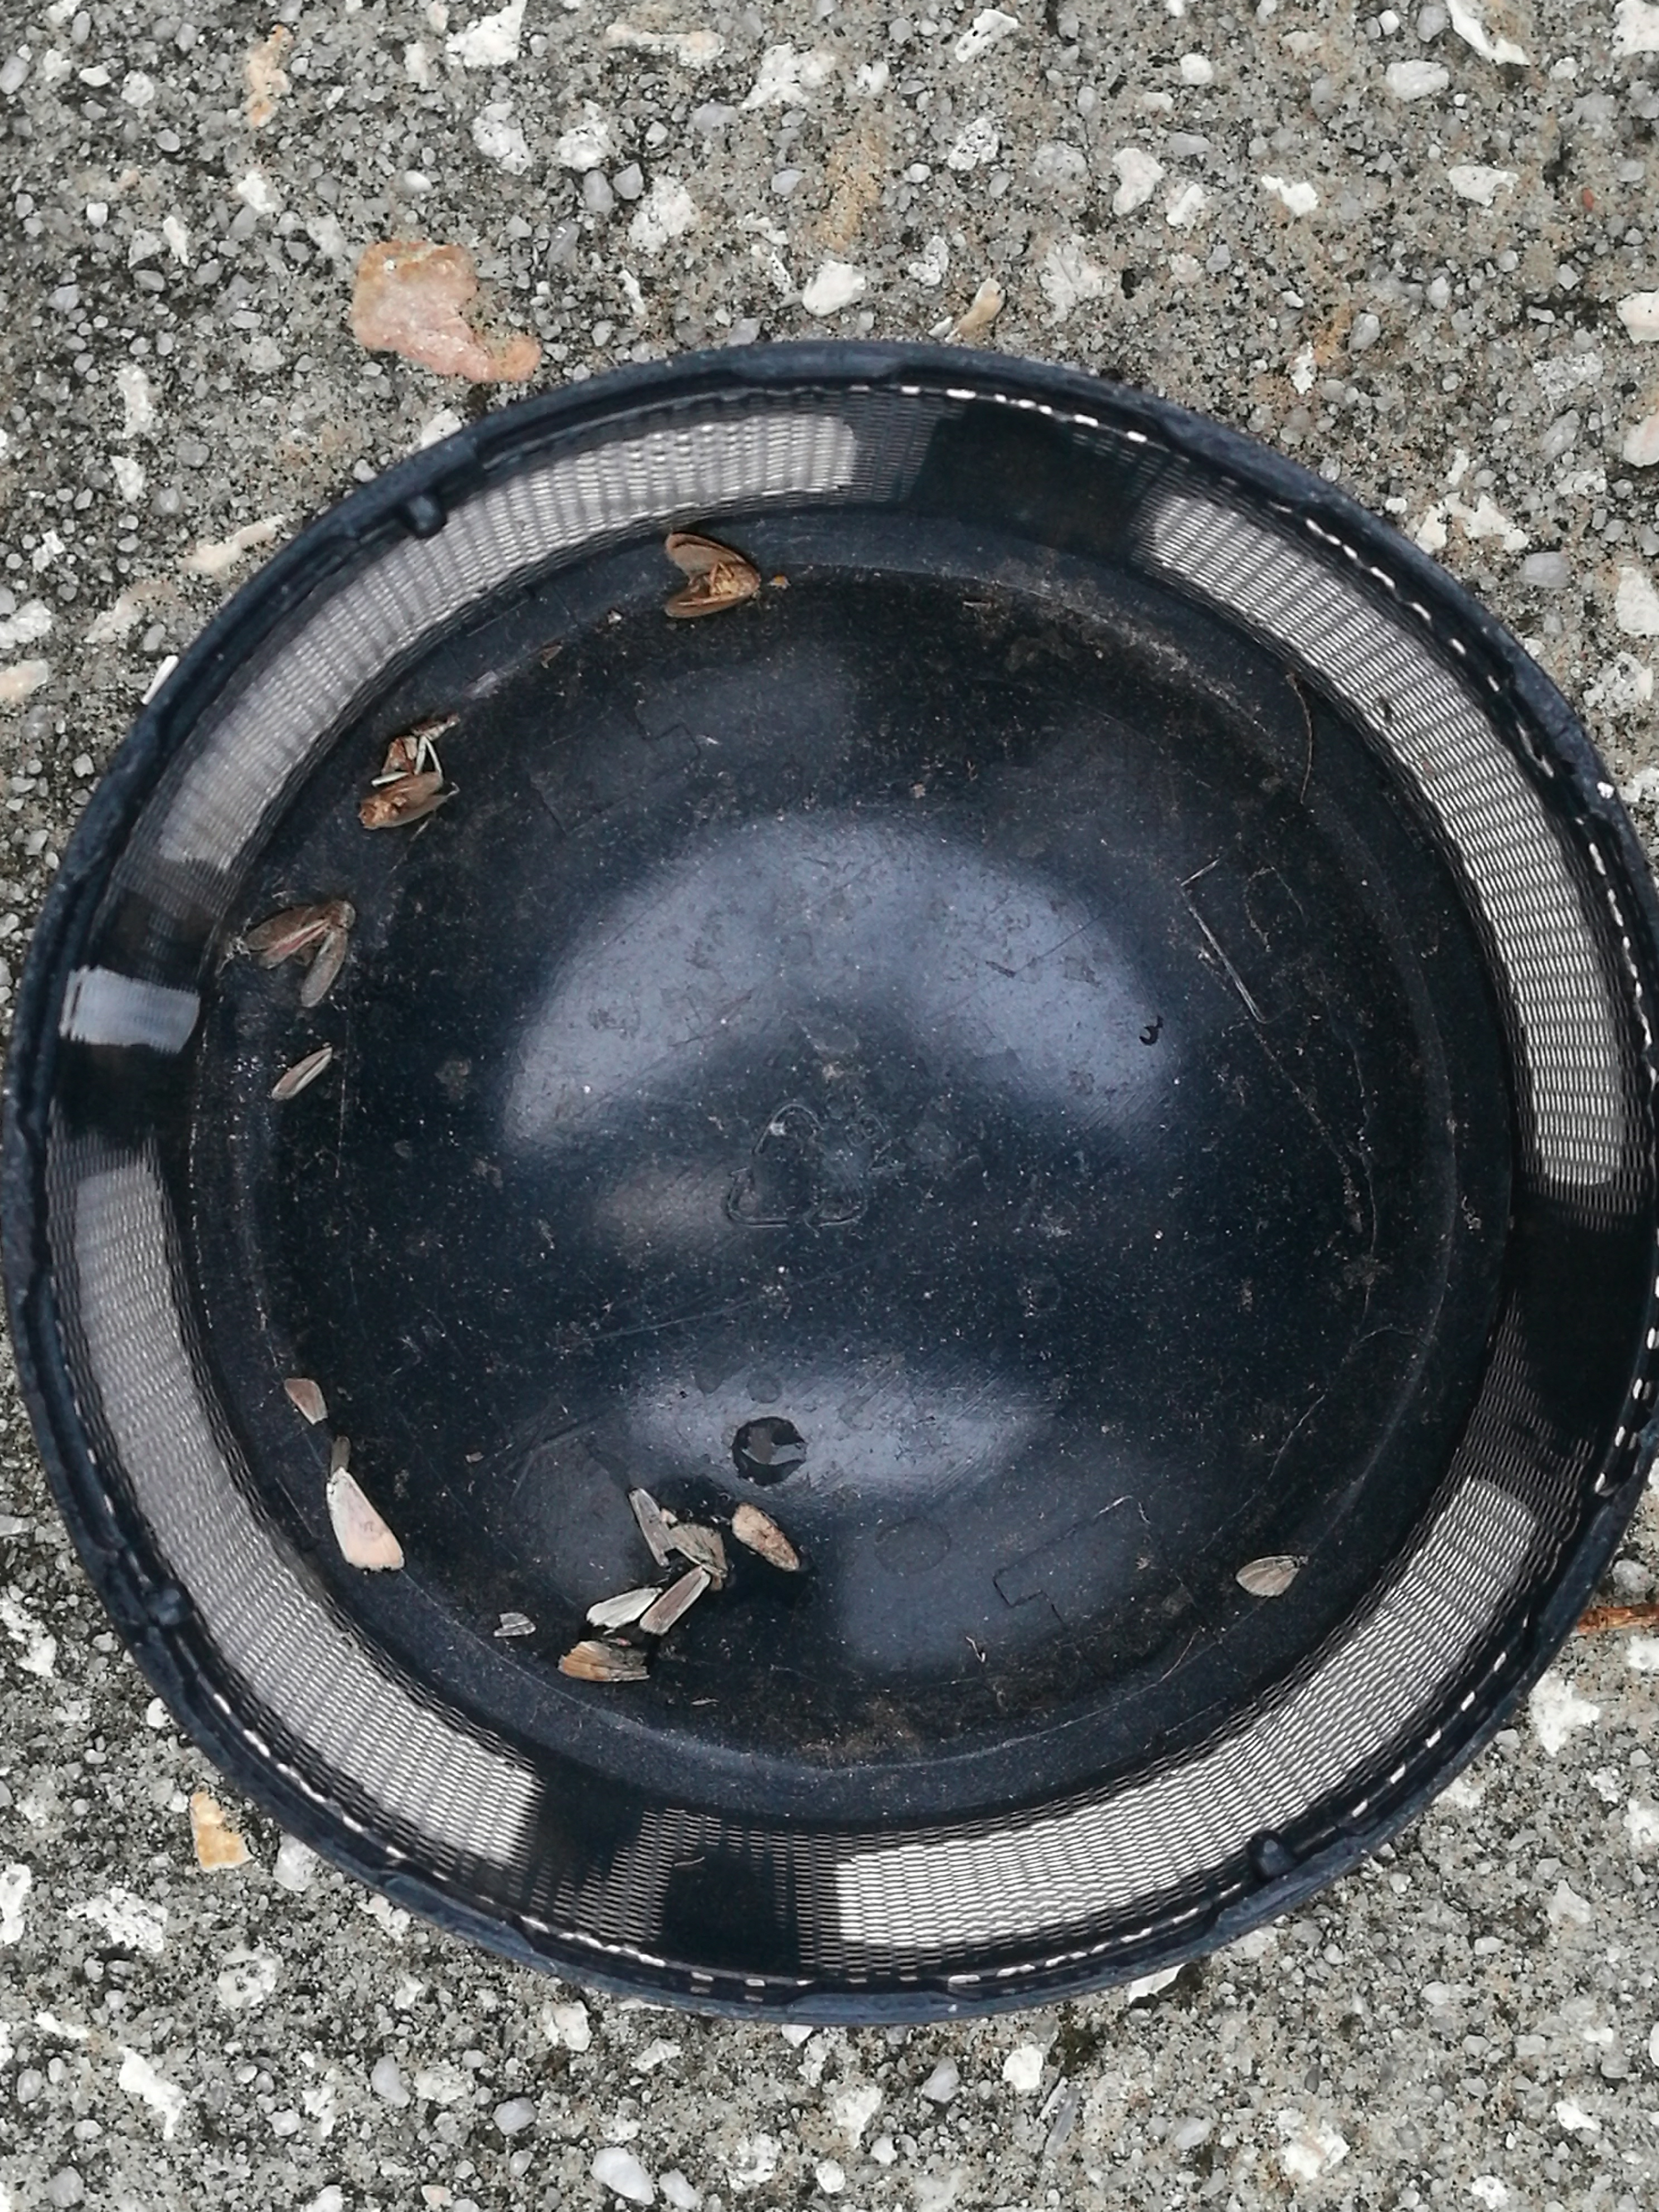moth: (240, 900, 352, 1007), (664, 531, 758, 617), (361, 772, 446, 829)
